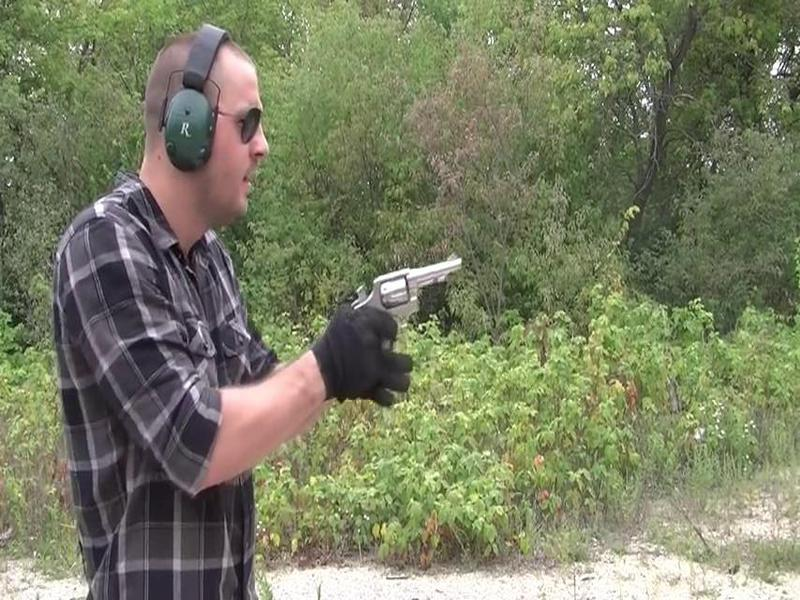Revolver: (348, 241, 466, 345)
